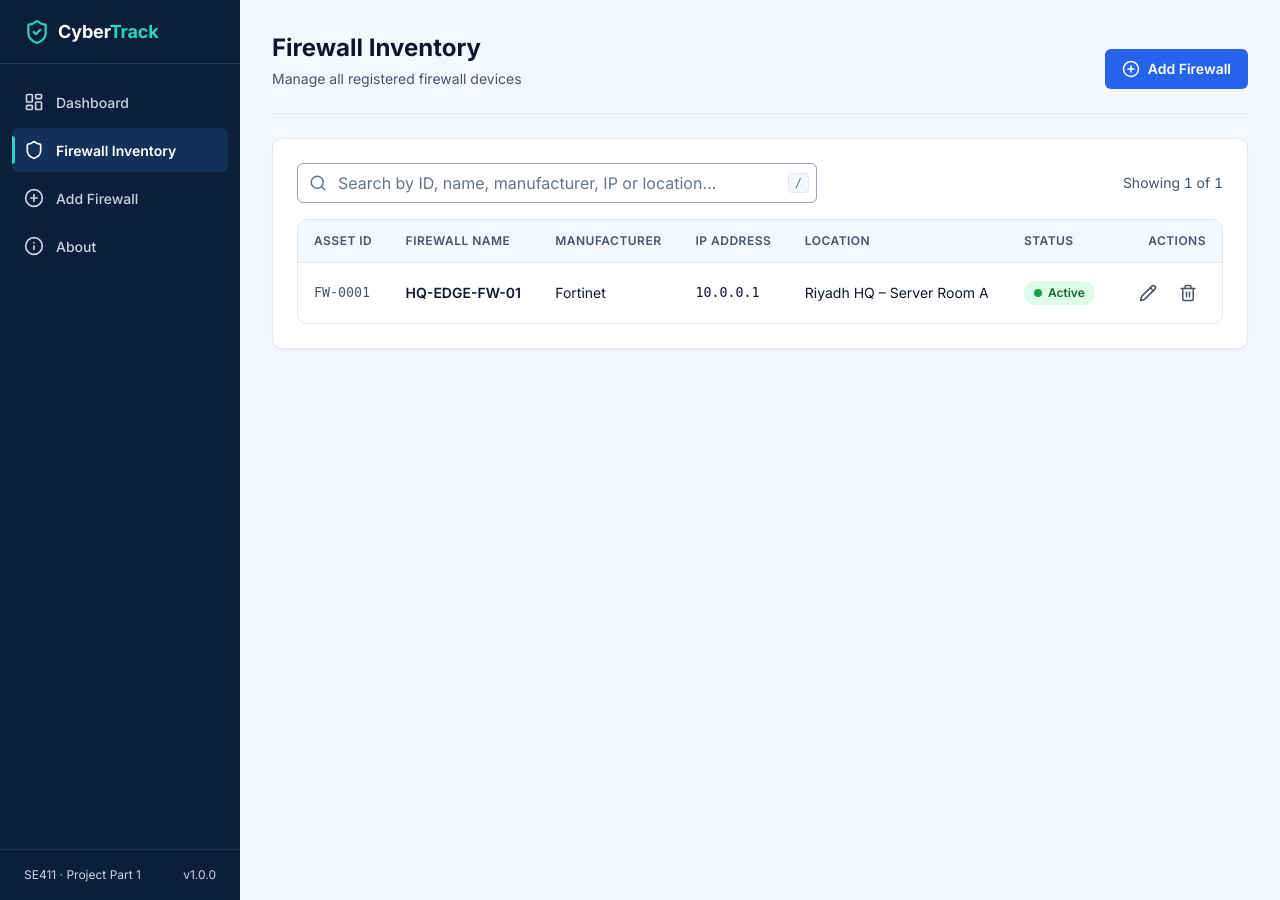
Test: Firewall Inventory › shows the empty state after the last firewall is deleted
This screenshot has width=1280, height=900.
Expected: the table is shown, [298, 220, 1222, 323]
Click the button named "Delete HQ-EDGE-FW-01": (1188, 293) [1170, 275, 1206, 311]
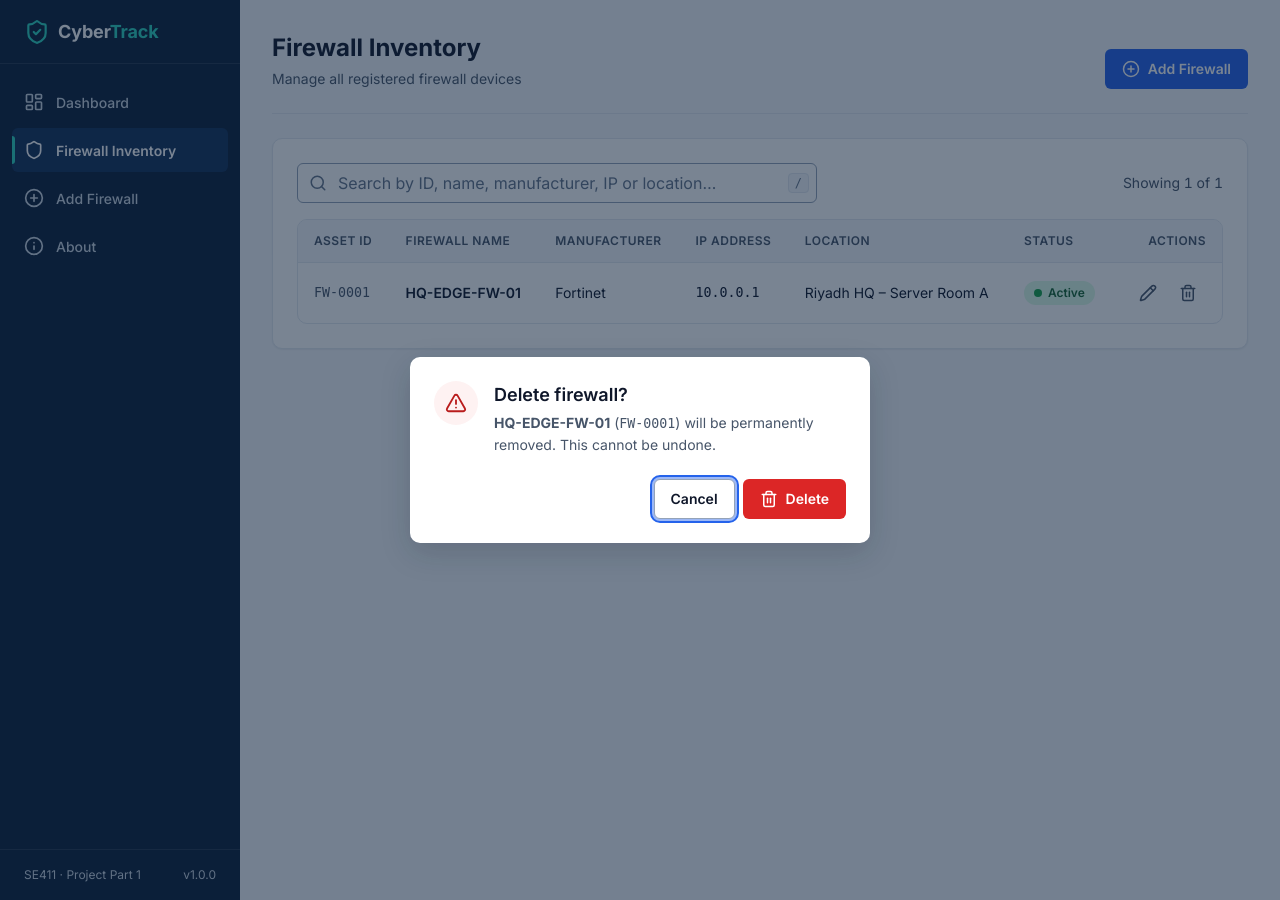
Click the button "Delete": (794, 499) [743, 479, 846, 519]
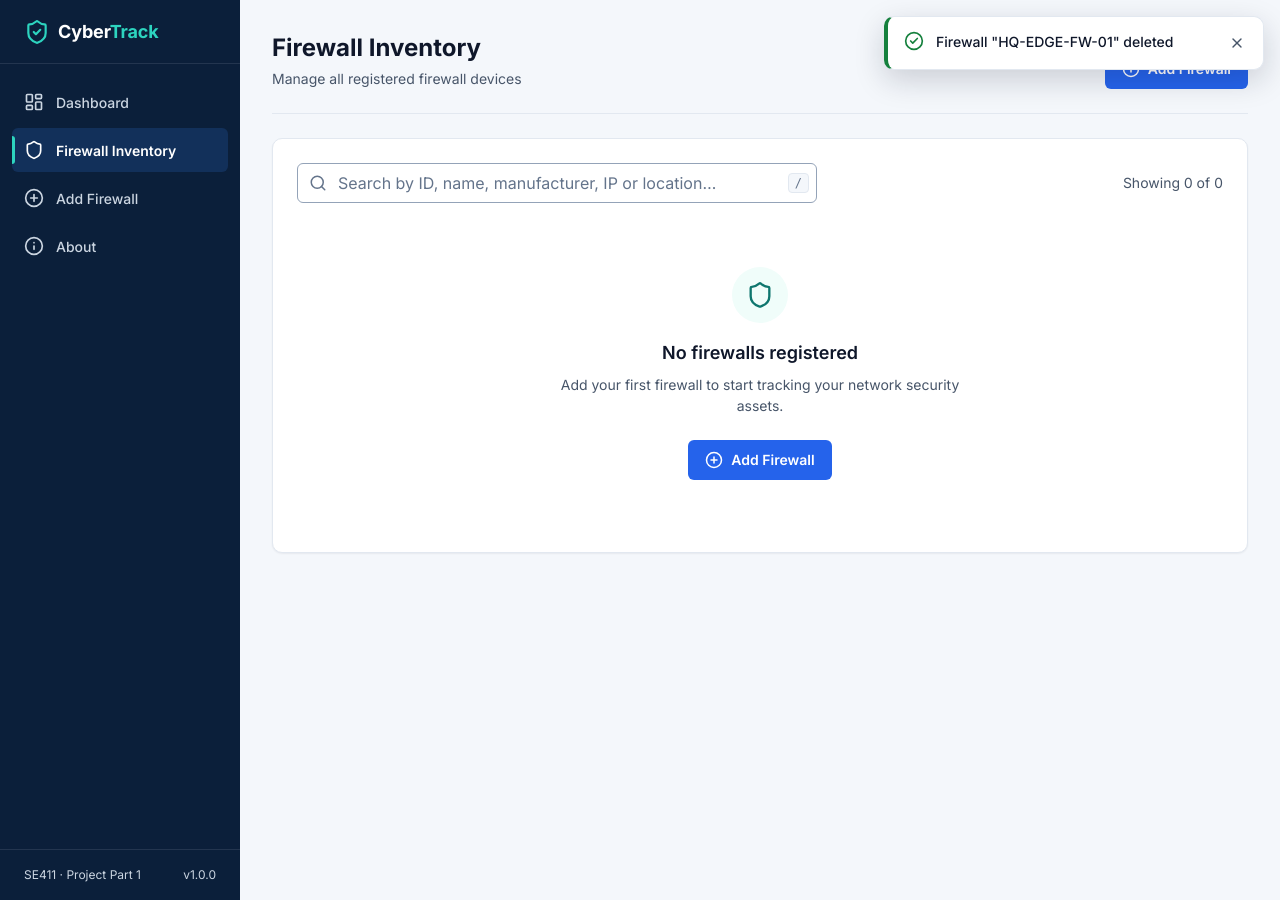
Expected: the heading "No firewalls registered" is shown, [662, 339, 858, 366]
